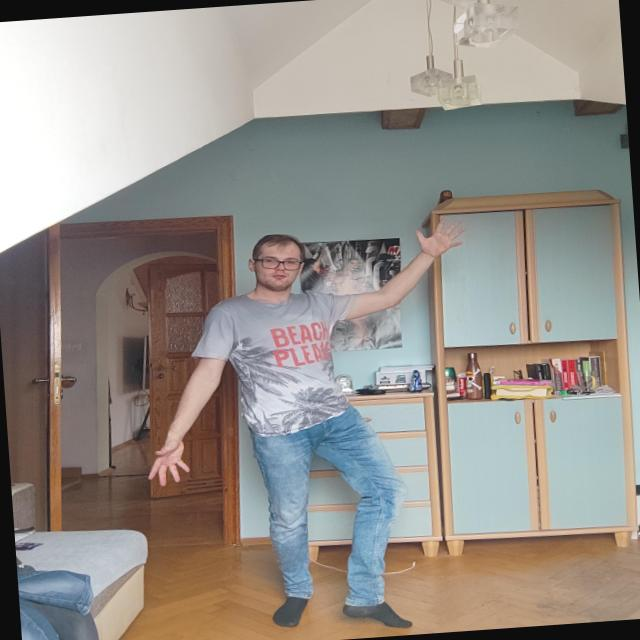Tshirt: (187, 285, 367, 442)
pants: (250, 390, 413, 612)
